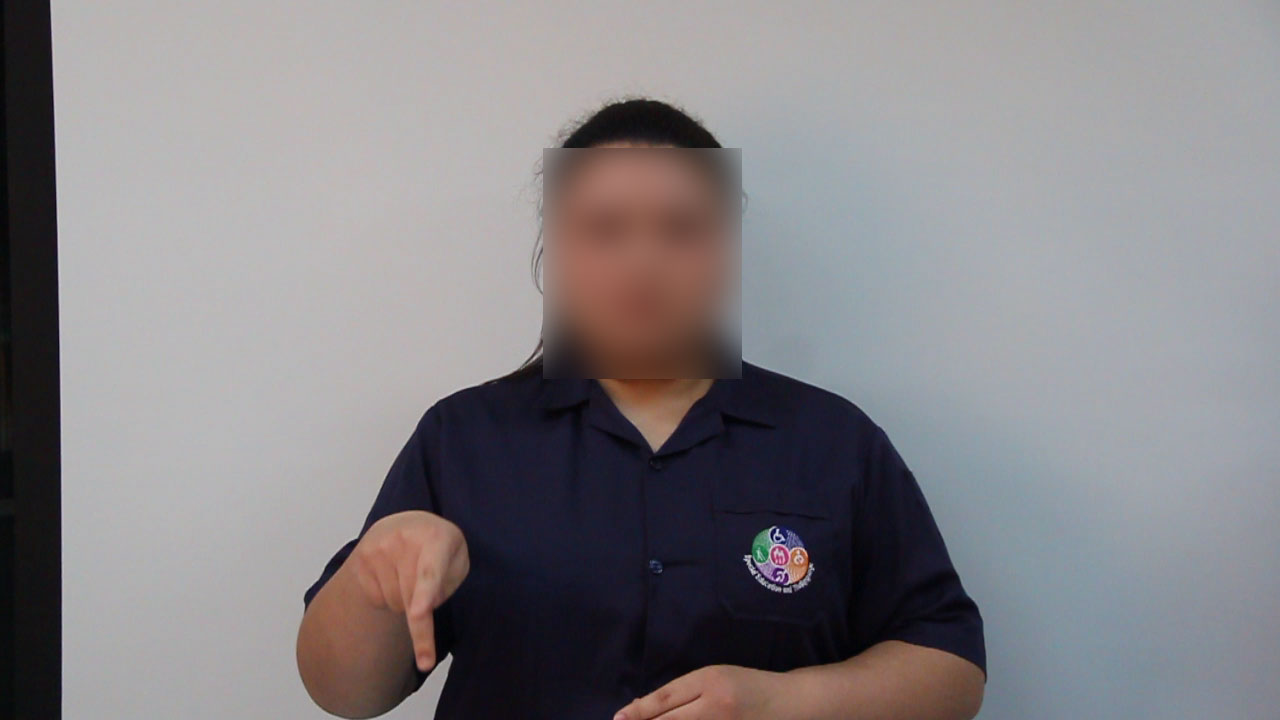por: (344, 503, 481, 681)
